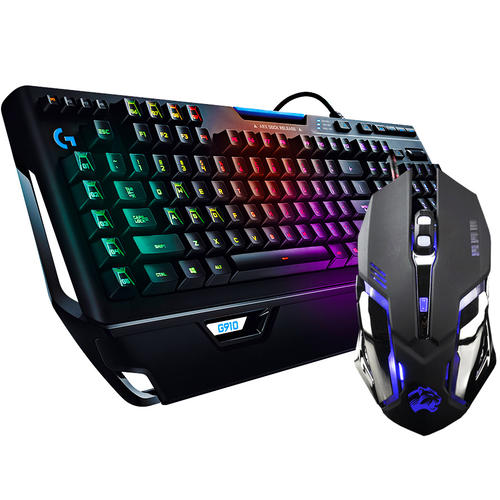keyboard: (4, 84, 443, 408)
mouse: (356, 167, 495, 438)
